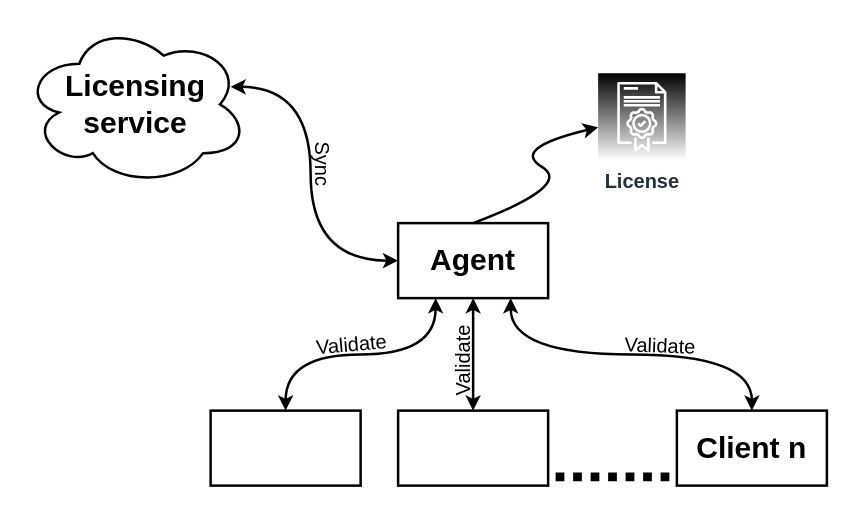
Some shapes in this 849 by 508 pixel diagram are drawn without their labels. Here are the shapes that lost their labels. From the top down, the centre of each, then its label:
At point (285, 447): "Client 1".
At point (472, 447): "Client 2".
